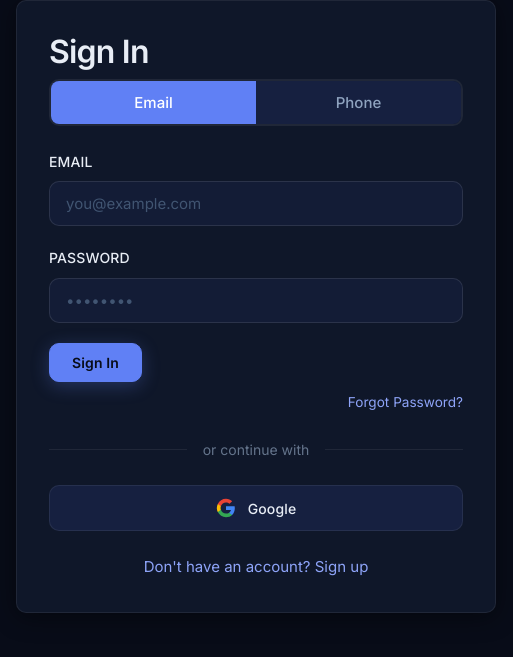
it: Login Page › email login › shows validation error for empty password
The width and height of the screenshot is (513, 657).
Type "test@example.com" into the field labelled "Email" at (256, 204), box [49,182,463,226]
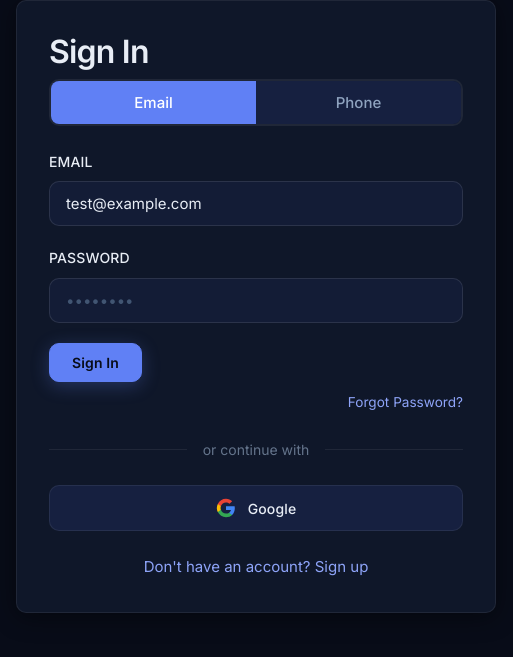
Click the button "Sign In" at (96, 362), box [49,343,142,382]
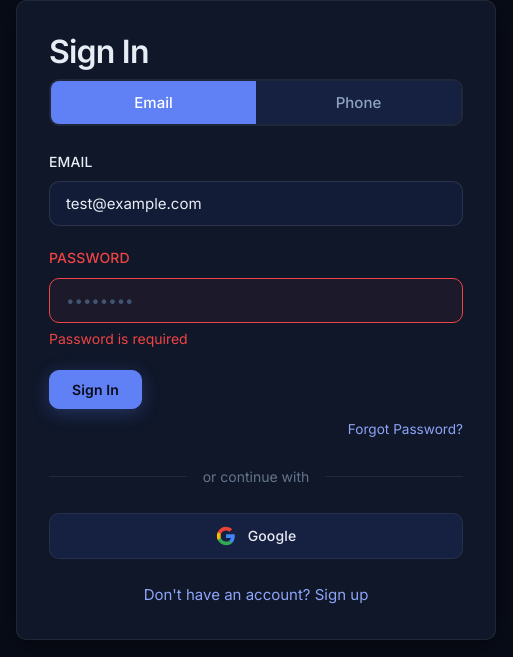
Expected: the text "Password is required" is shown, [49,330,188,347]
